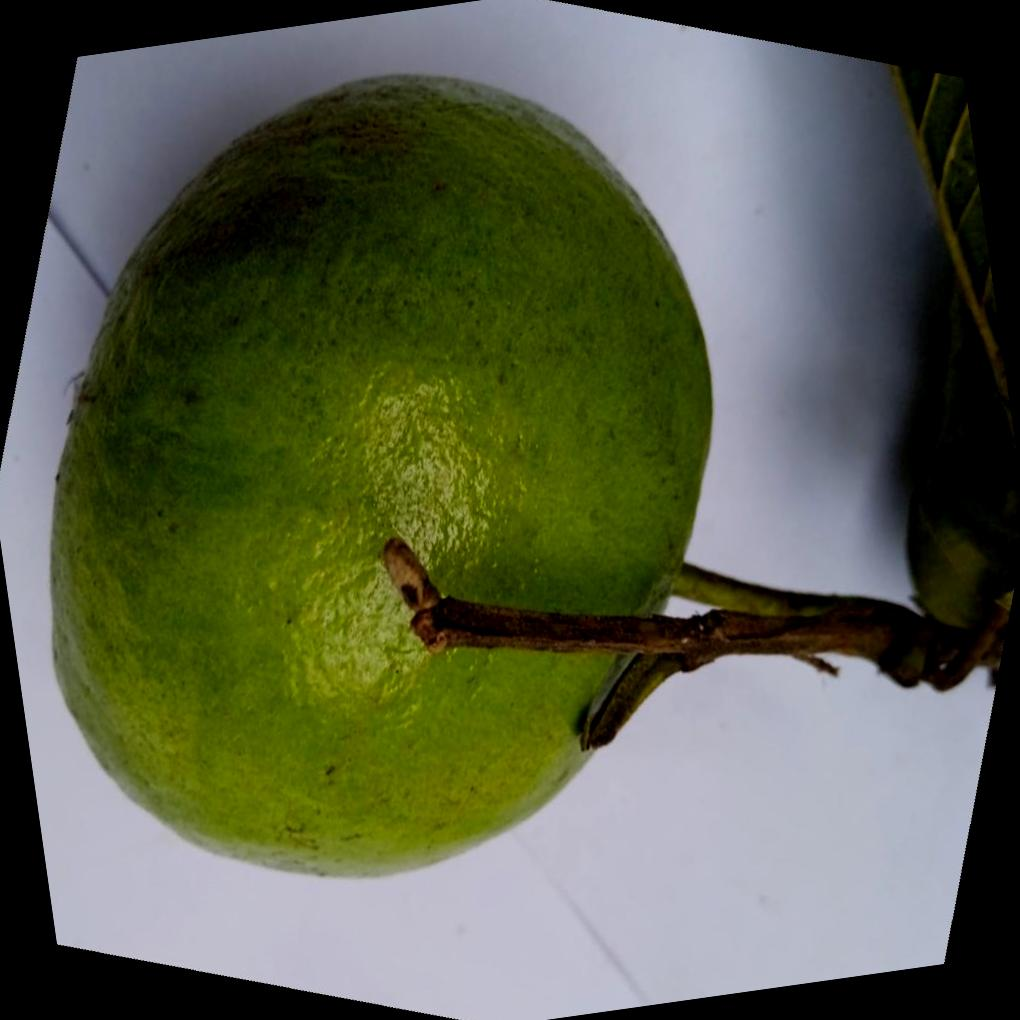FreshGuava: (47, 69, 833, 879)
